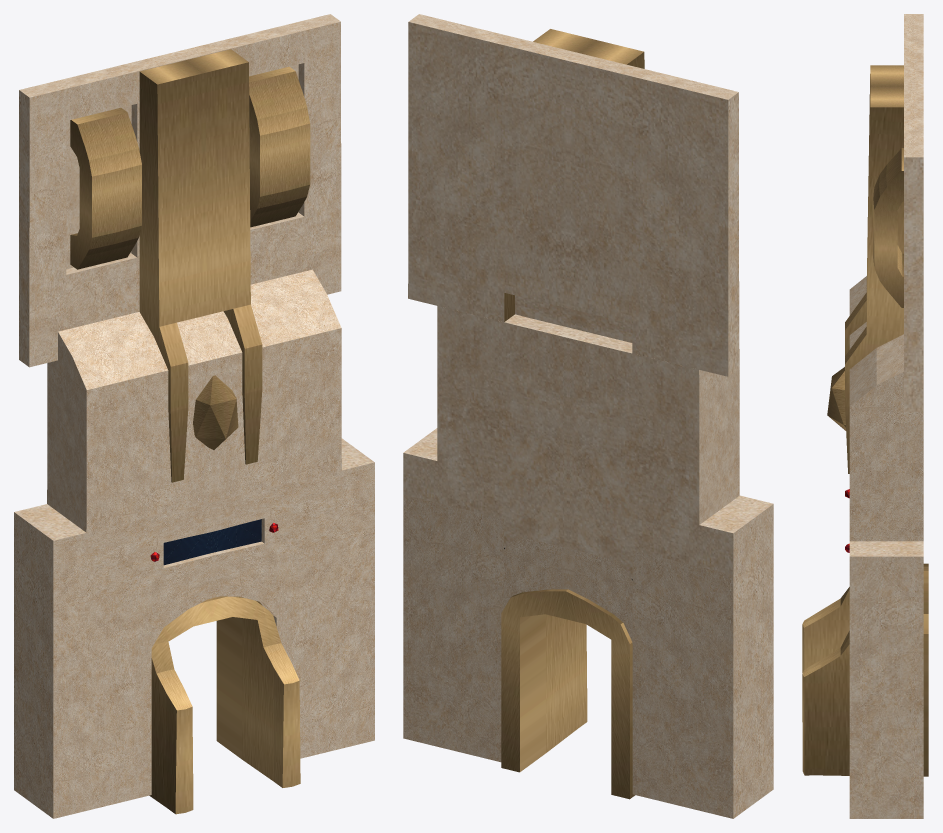
The model's file is HubGates.gltf.
3 renders of one model, left to right at view 1: azimuth 30°, elevation 25°; view 2: azimuth 150°, elevation 25°; view 3: azimuth 270°, elevation 25°, orthographic. The views are drawn at different scales.
Parts seen in each view (by area): view 1: Icosphere; view 2: Icosphere; view 3: Icosphere.
Boxes of the visible parts, x1,y1,x2,y2 form: Icosphere: [14, 14, 374, 818]; Icosphere: [403, 14, 773, 818]; Icosphere: [802, 14, 928, 818].
Bounding box in the file's own units: 12.87 × 26.86 × 4.65.
1 material, 1 textured.
